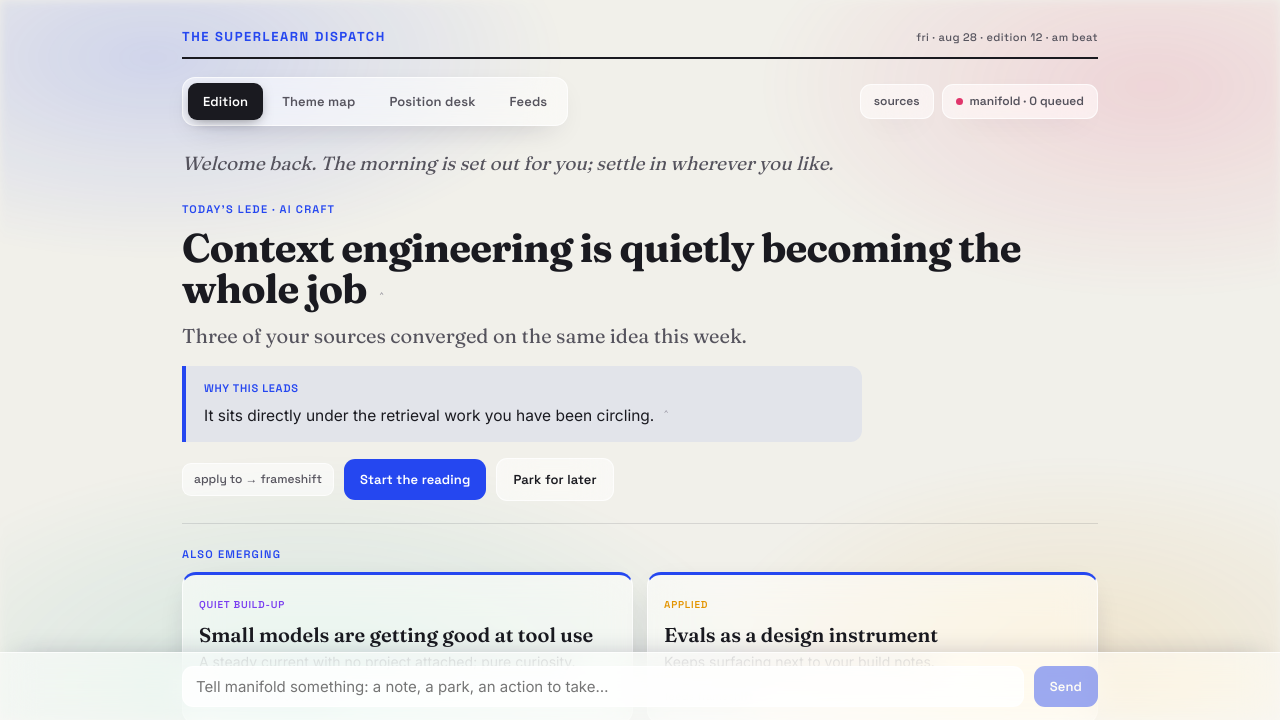
Test case: citations › opens a live source sheet on the lede with the cited article and both actions
Expected: the heading "Context engineering is quietly becoming the whole job" is shown, [182,222,1021,313]
The lede cites i1, whose title resolves from reading_items.
Click the button named "sources for the lede" at (382, 299), box [374,290,389,307]
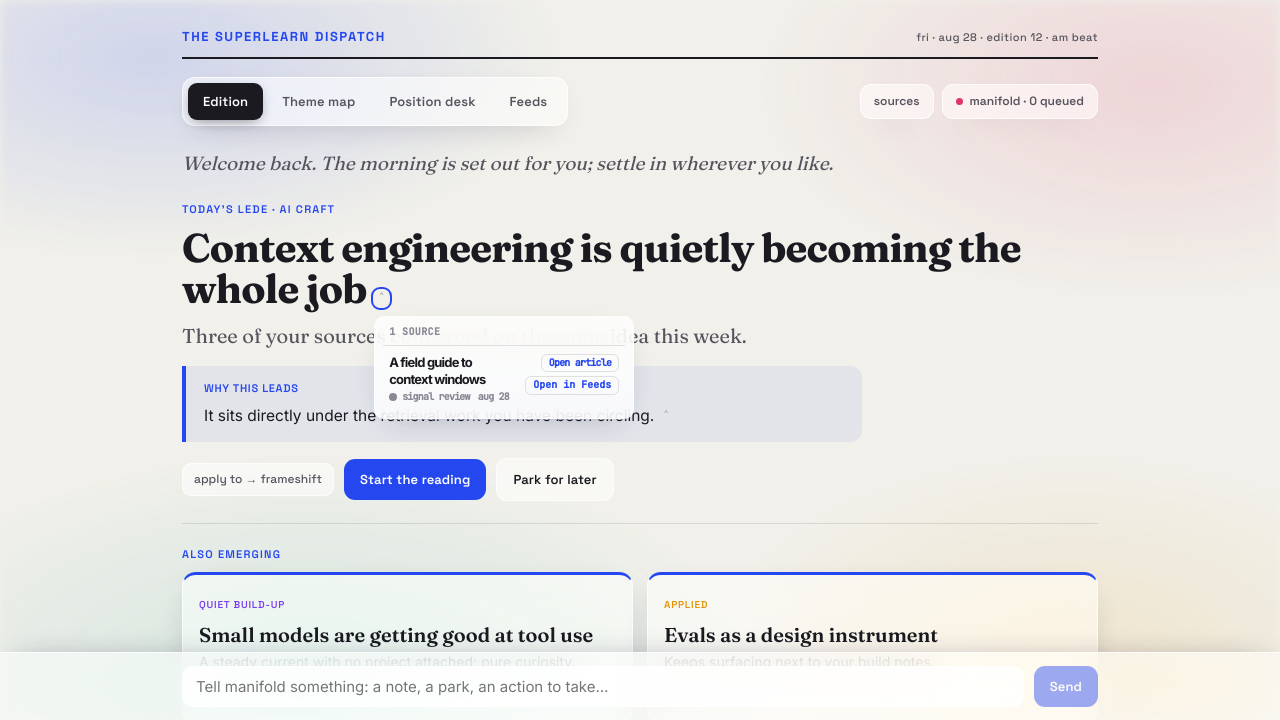
Expected: the text "A field guide to context windows" is shown, [389,354,486,387]
Expected: the button "Open in Feeds" is shown, [525,376,619,395]
